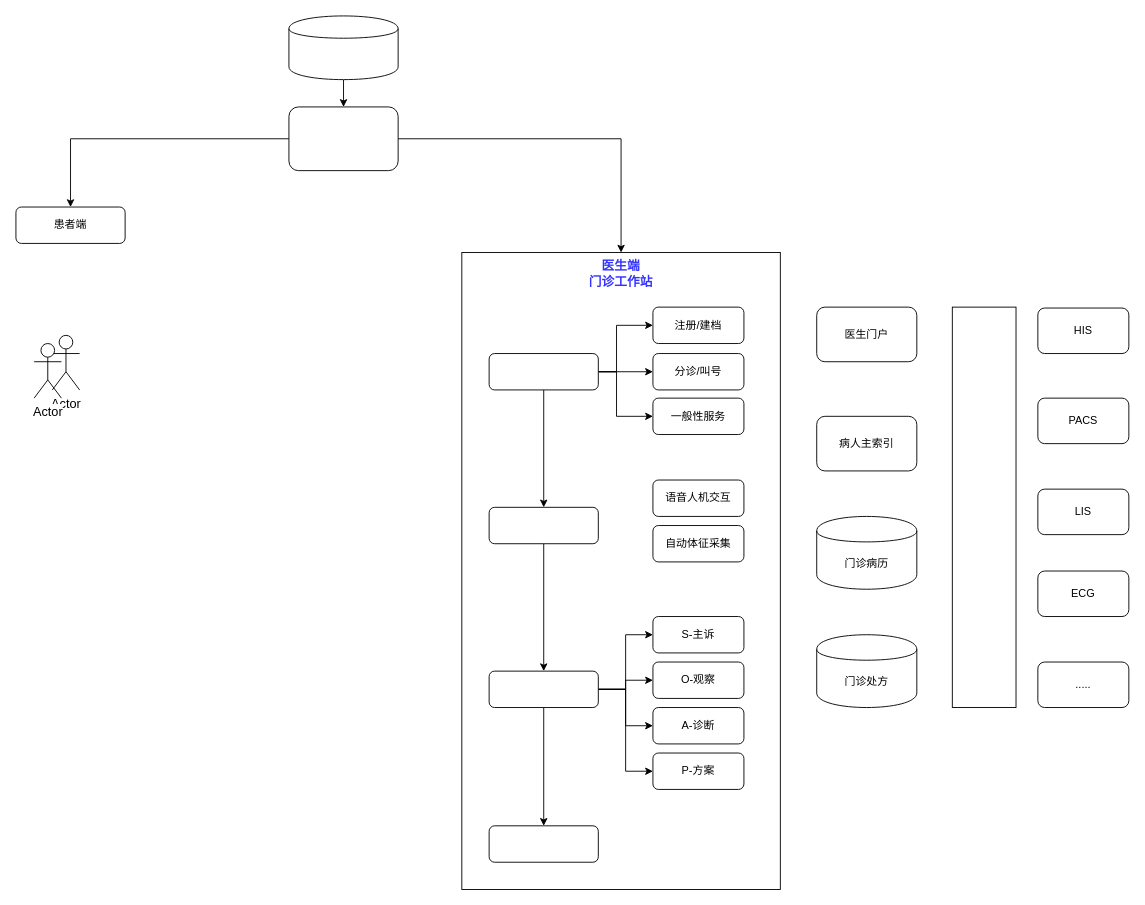
The diagram is 1145 pixels wide and 905 high, and some of its shapes have lost their labels. Each missing label, with the centre of its shape:
SOAP 门诊病历: (x=543, y=689)
医师助手: (x=543, y=525)
基于门诊电子病历 的互联网医院: (x=343, y=138)
基础门诊服务: (x=543, y=371)
电子处方: (x=543, y=843)
集成平台: (x=983, y=507)
